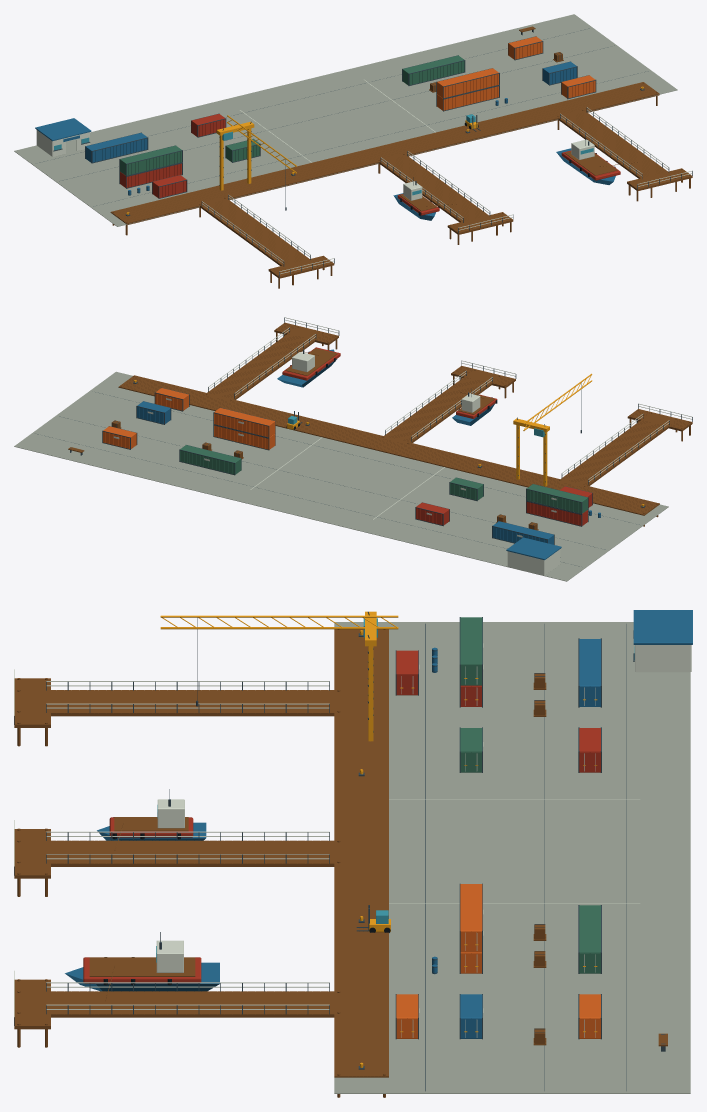
The model's file is south-harbor.glb.
3 renders of one model, top to bottom at view 1: azimuth 30°, elevation 25°; view 2: azimuth 150°, elevation 25°; view 3: azimuth 270°, elevation 25°, orthographic. The views are drawn at different scales.
Visible parts, largest first — view 1: harbor-concrete, harbor-wood, harbor-steel, harbor-white, harbor-blue, harbor-orange, harbor-green, harbor-red, harbor-yellow; view 2: harbor-concrete, harbor-wood, harbor-white, harbor-steel, harbor-orange, harbor-green, harbor-blue, harbor-red, harbor-yellow; view 3: harbor-concrete, harbor-wood, harbor-white, harbor-blue, harbor-steel, harbor-red, harbor-green, harbor-orange, harbor-yellow.
Part boxes in pixels (x1,y1,x2,y2): harbor-concrete: (14,14,677,226); harbor-wood: (110,26,692,288); harbor-steel: (39,28,692,276); harbor-white: (36,79,692,274); harbor-blue: (35,61,615,220); harbor-orange: (437,36,595,110); harbor-green: (120,55,464,175); harbor-red: (120,114,620,215); harbor-yellow: (126,86,643,214); harbor-concrete: (14,371,668,581); harbor-wood: (68,322,692,530); harbor-white: (113,317,692,575); harbor-steel: (37,317,692,566); harbor-orange: (103,388,275,449); harbor-green: (180,445,587,513); harbor-blue: (137,349,600,560); harbor-red: (282,347,592,525); harbor-yellow: (134,373,644,506); harbor-concrete: (334,622,690,1093); harbor-wood: (14,629,667,1097); harbor-white: (14,643,691,1037); harbor-blue: (65,610,692,1038); harbor-steel: (14,611,665,1091); harbor-red: (83,650,600,983); harbor-green: (460,617,600,973); harbor-orange: (396,884,600,1038); harbor-yellow: (160,611,597,1067).
Size of the model in its own units: 122 by 16.32 by 74.3.
